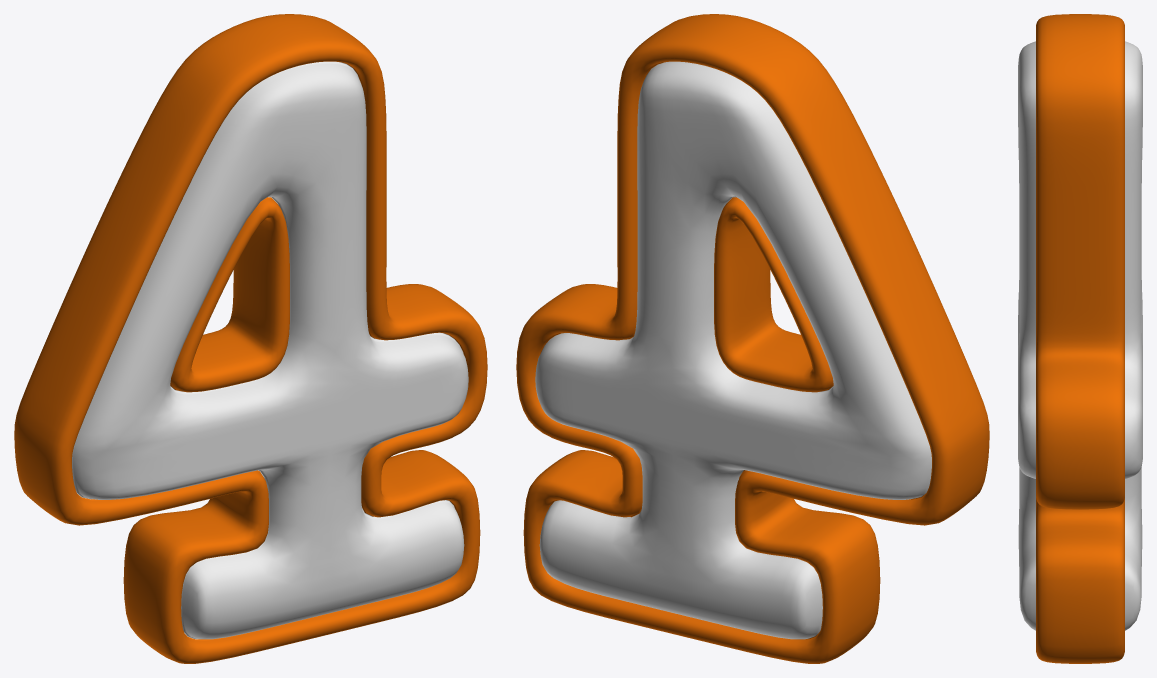
Rendered from number 4.fbx.
3 renders of one model, left to right at view 1: azimuth 30°, elevation 25°; view 2: azimuth 150°, elevation 25°; view 3: azimuth 270°, elevation 25°, orthographic. The views are drawn at different scales.
Parts seen in each view (by area): view 1: num4; view 2: num4; view 3: num4.
Boxes of the visible parts, x1=… form: num4: x1=14, y1=14, x2=487, y2=663; num4: x1=516, y1=14, x2=989, y2=663; num4: x1=1018, y1=14, x2=1142, y2=663.
Size of the model in its own units: 230 by 301 by 60.05.
